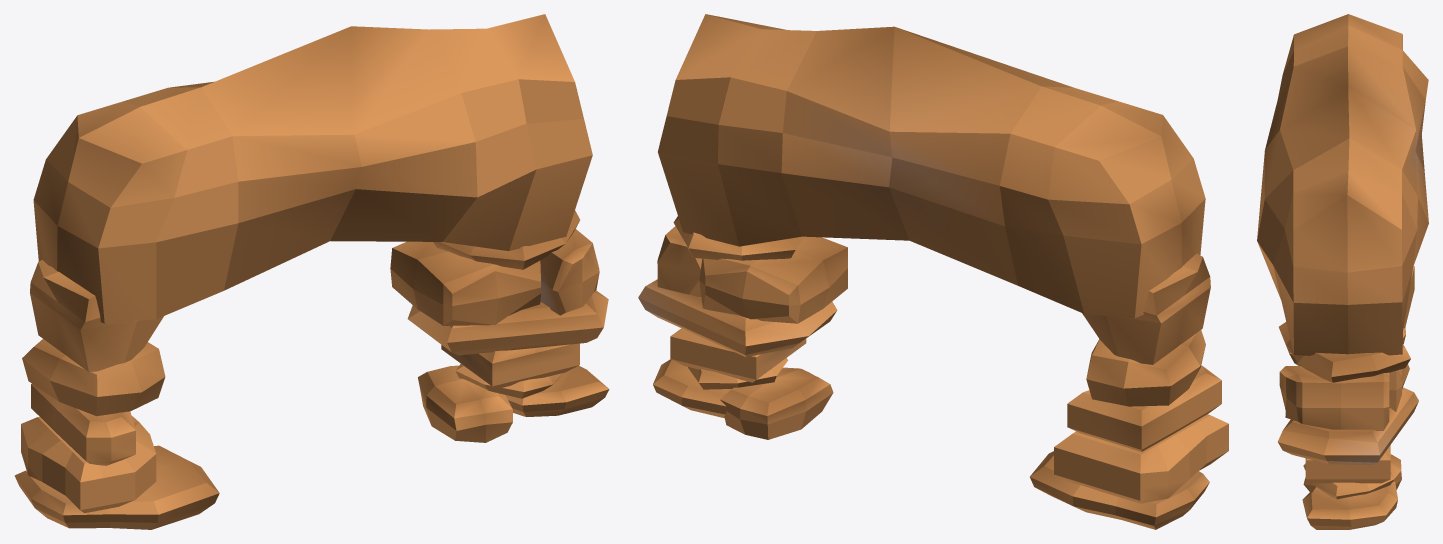
File: Rock_DesertMonument.fbx
3 views of the same model, side by side, from view 1: azimuth 30°, elevation 25°; view 2: azimuth 150°, elevation 25°; view 3: azimuth 270°, elevation 25° (orthographic). The views are drawn at different scales.
Visible parts, largest first — view 1: Rock_DesertMonument_LOD0; view 2: Rock_DesertMonument_LOD0; view 3: Rock_DesertMonument_LOD0.
Boxes of the visible parts, left/top/right/bottom form: Rock_DesertMonument_LOD0: left=14, top=14, right=609, bottom=529; Rock_DesertMonument_LOD0: left=638, top=14, right=1228, bottom=529; Rock_DesertMonument_LOD0: left=1257, top=14, right=1428, bottom=529.
Size of what is drawn, in the model's own units: 493 by 366 by 158.
